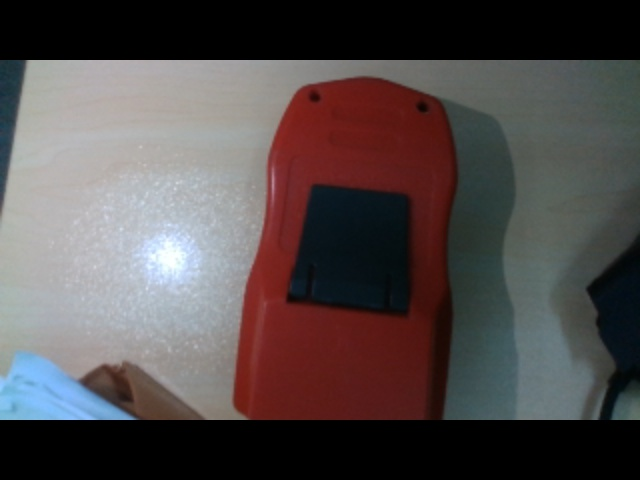Multimeter: (232, 75, 459, 420)
Screw holes: (304, 89, 323, 105), (414, 100, 430, 114)
